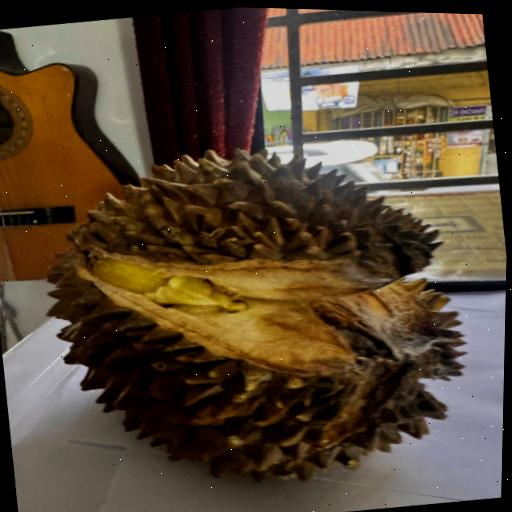mold: (299, 242, 456, 416)
rot: (11, 97, 505, 512)
